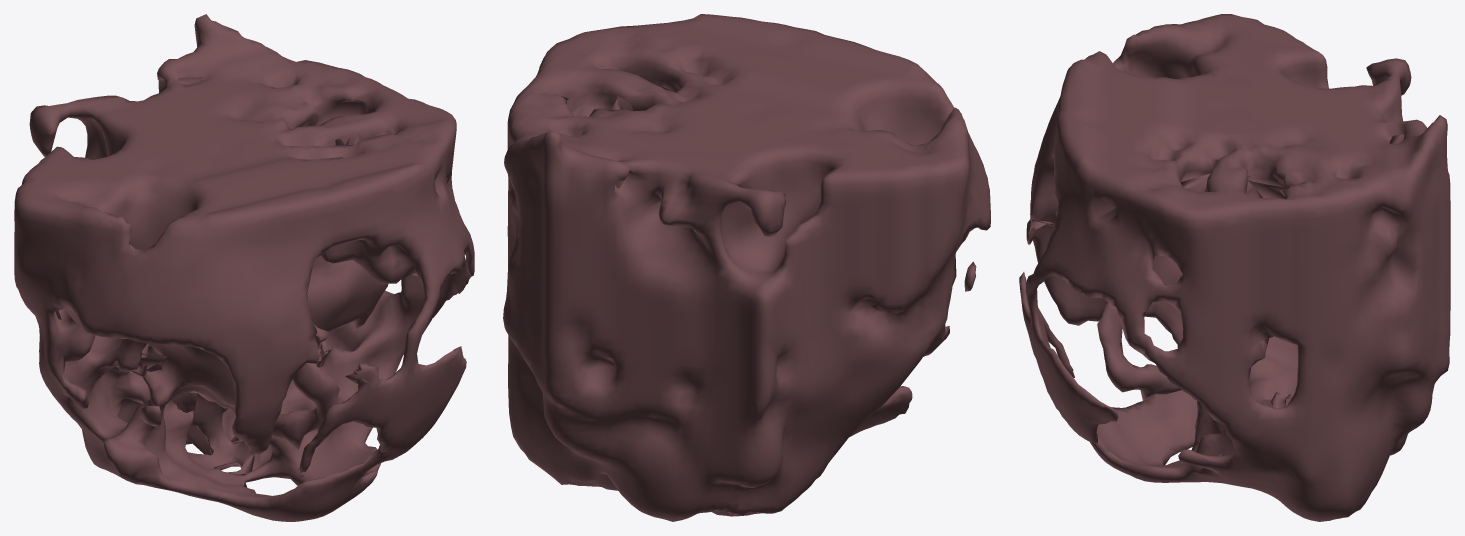
File: Pat2_Mav_HernialBlob.fbx
3 renders of one model, left to right at view 1: azimuth 30°, elevation 25°; view 2: azimuth 150°, elevation 25°; view 3: azimuth 270°, elevation 25°, orthographic. The views are drawn at different scales.
Parts seen in each view (by area): view 1: Seg_Blob; view 2: Seg_Blob; view 3: Seg_Blob.
Boxes of the visible parts, x1=… form: Seg_Blob: x1=14, y1=14, x2=474, y2=521; Seg_Blob: x1=503, y1=14, x2=990, y2=521; Seg_Blob: x1=1019, y1=14, x2=1450, y2=521.
Bounding box in the file's own units: 88.56 × 78.34 × 78.69.
